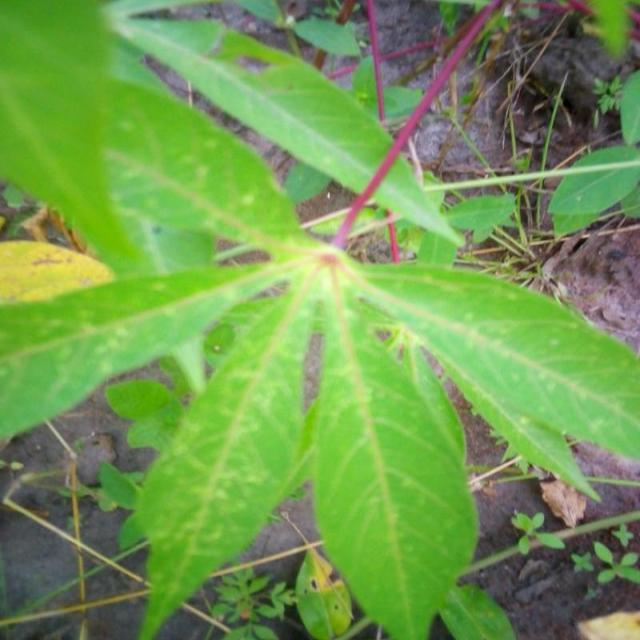cassava leaf: (1, 0, 640, 639), (313, 283, 481, 639)
